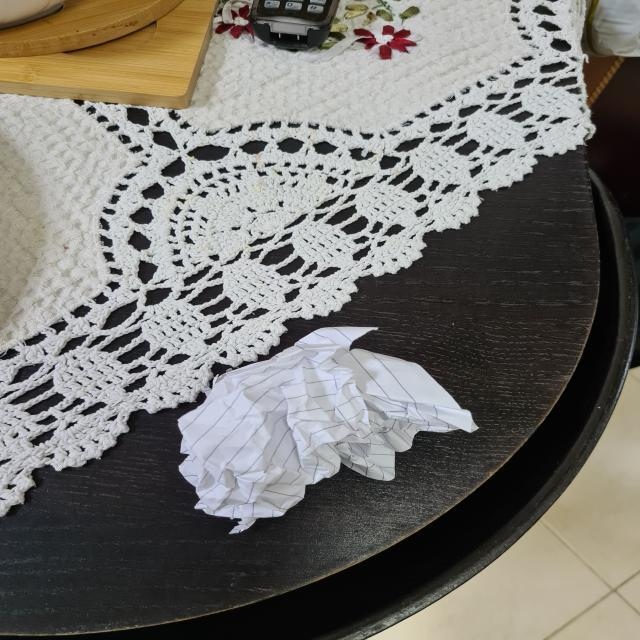Paper: (185, 331, 482, 522)
